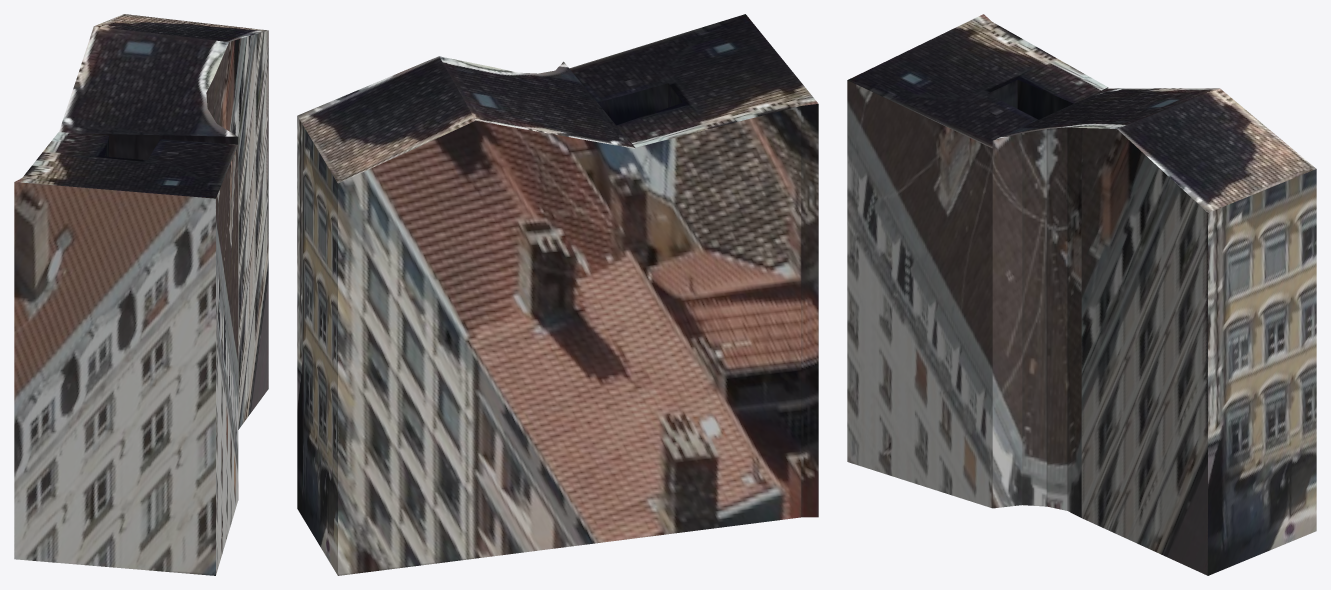
3 views of the same model, side by side, from view 1: azimuth 30°, elevation 25°; view 2: azimuth 150°, elevation 25°; view 3: azimuth 270°, elevation 25° (orthographic). The views are drawn at different scales.
Visible parts, largest first — view 1: Z_UP; view 2: Z_UP; view 3: Z_UP.
Part boxes in pixels (<box>): Z_UP: <box>14,14,268,575</box>; Z_UP: <box>297,14,818,575</box>; Z_UP: <box>847,14,1316,575</box>.
Bounding box in the file's own units: 19.79 × 20.76 × 21.79.
Materials: 2 (1 with a texture image).
